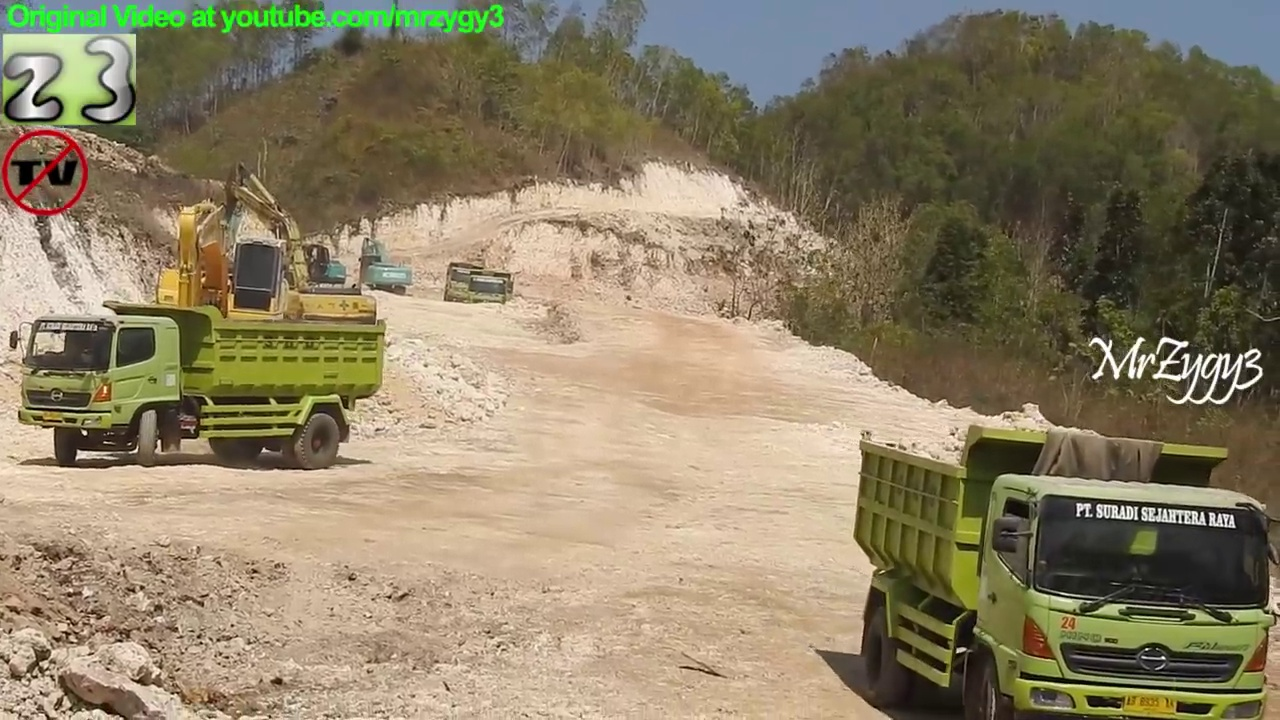excavator: (99, 203, 338, 434), (169, 161, 386, 402), (195, 181, 347, 323), (354, 234, 416, 302)
truck: (838, 419, 1280, 720), (7, 298, 391, 474), (467, 265, 515, 313), (441, 259, 488, 306)
